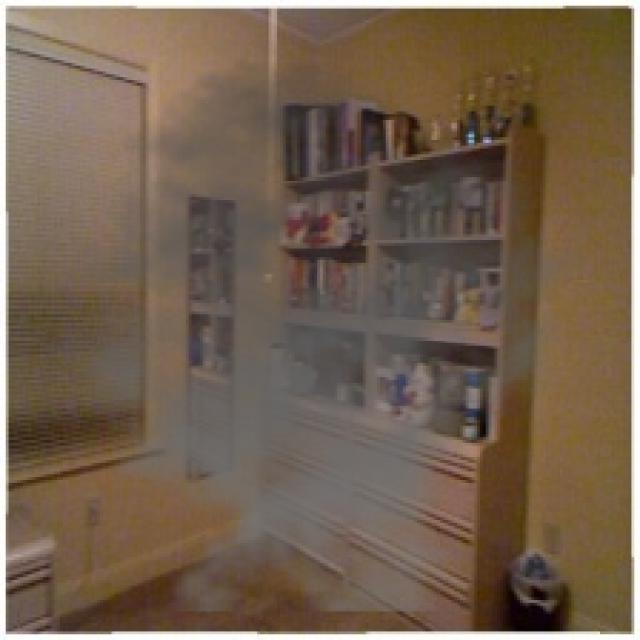Smoke: (17, 59, 583, 612)
